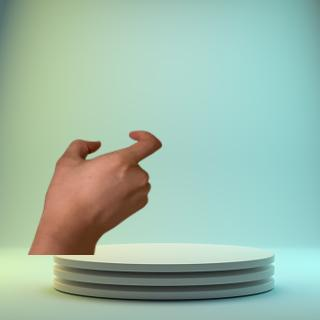HATE: (43, 127, 169, 245)
